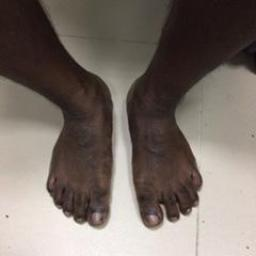Dorsal View -Both Feet-: (34, 66, 211, 237)
